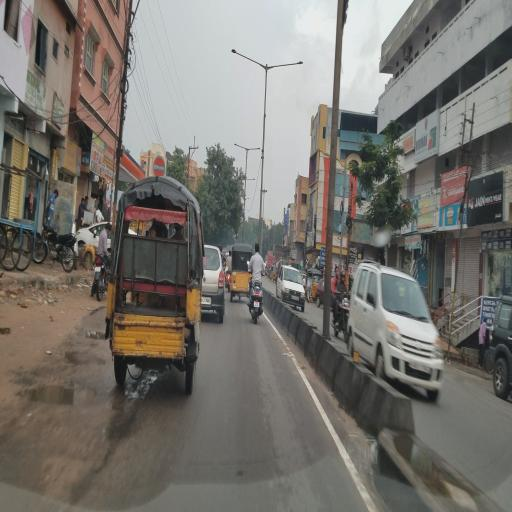street_light_0: (220, 44, 263, 72), (262, 49, 304, 77), (247, 140, 263, 154), (230, 137, 246, 151)
